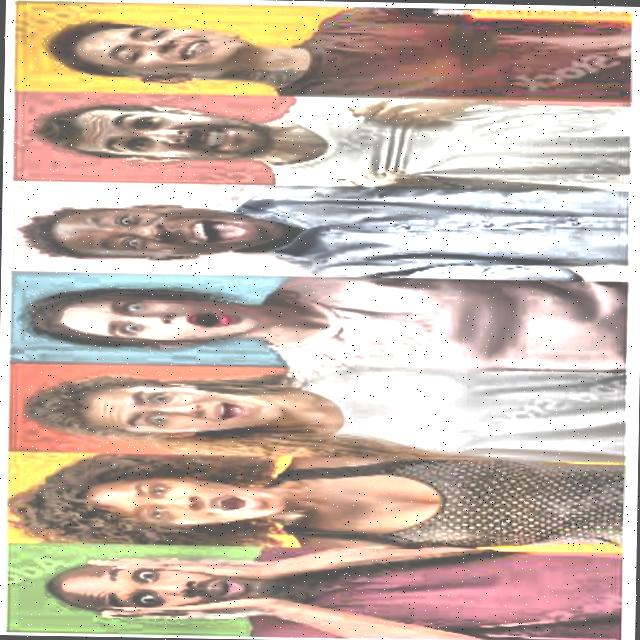surprised: (21, 532, 319, 632), (2, 451, 299, 551), (7, 361, 315, 438), (4, 91, 288, 174), (23, 274, 282, 359), (32, 12, 303, 93), (12, 195, 282, 270)
